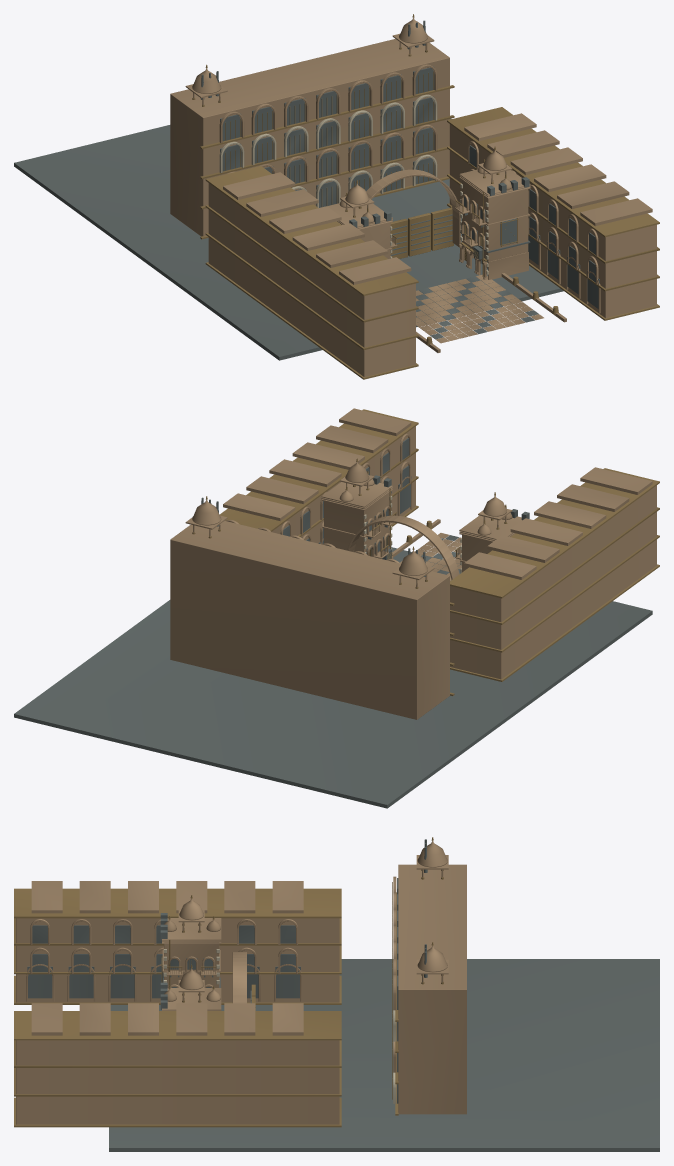
File: arena-10.glb
3 views of the same model, one above another, from view 1: azimuth 30°, elevation 25°; view 2: azimuth 150°, elevation 25°; view 3: azimuth 270°, elevation 25° (orthographic). The views are drawn at different scales.
Visible parts, largest first — view 1: correction-sand, correction-dark, correction-bronze, correction-plaster; view 2: correction-sand, correction-dark, correction-bronze; view 3: correction-sand, correction-dark, correction-bronze.
Boxes of the visible parts, x1,y1,x2,y2 form: correction-sand: (170, 17, 656, 376); correction-dark: (14, 20, 599, 360); correction-bronze: (192, 14, 659, 379); correction-plaster: (219, 94, 488, 274); correction-sand: (170, 408, 656, 719); correction-dark: (14, 438, 652, 808); correction-bronze: (192, 409, 659, 695); correction-sand: (16, 840, 466, 1124); correction-dark: (27, 839, 659, 1151); correction-bronze: (14, 837, 443, 1127).
Bounding box in the file's own units: 65 × 26.86 × 93.8.
